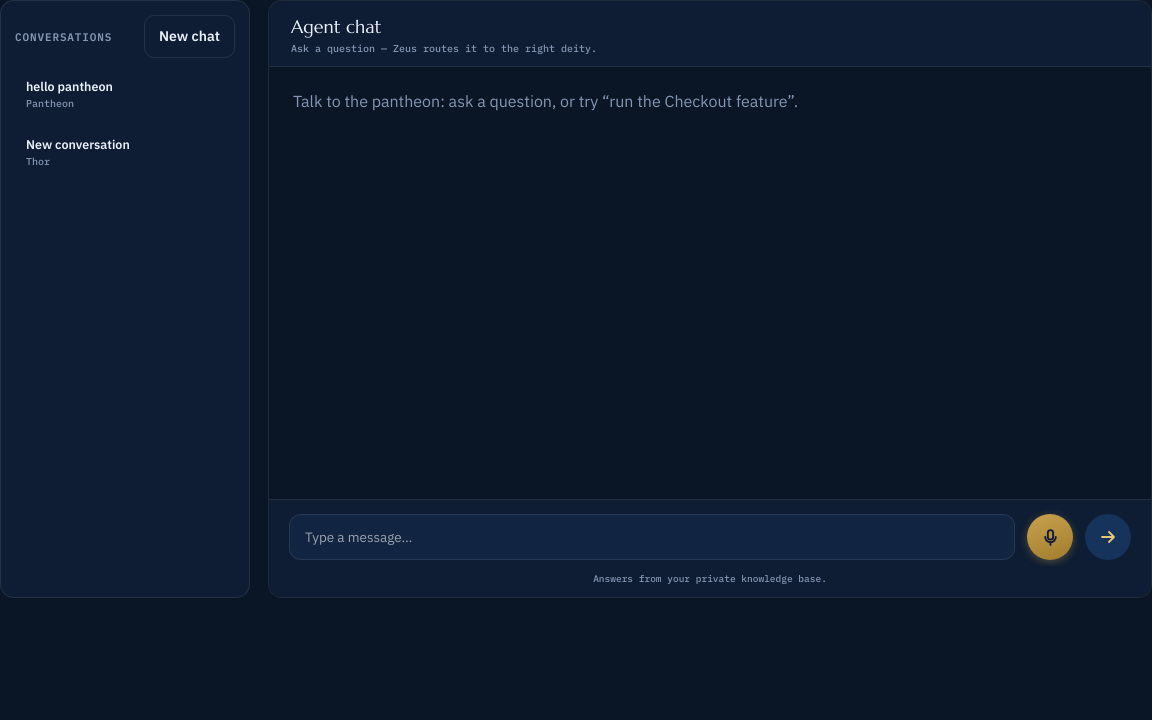
Test: ChatScreen (slice 11 re-skin) › falls back to a history resync when the EventSource errors
The width and height of the screenshot is (1152, 720).
Expected: the text "hello pantheon" is shown, [26,78,113,94]
Type "doomed stream" into the field labelled "message" at (652, 537), box [289,514,1015,560]
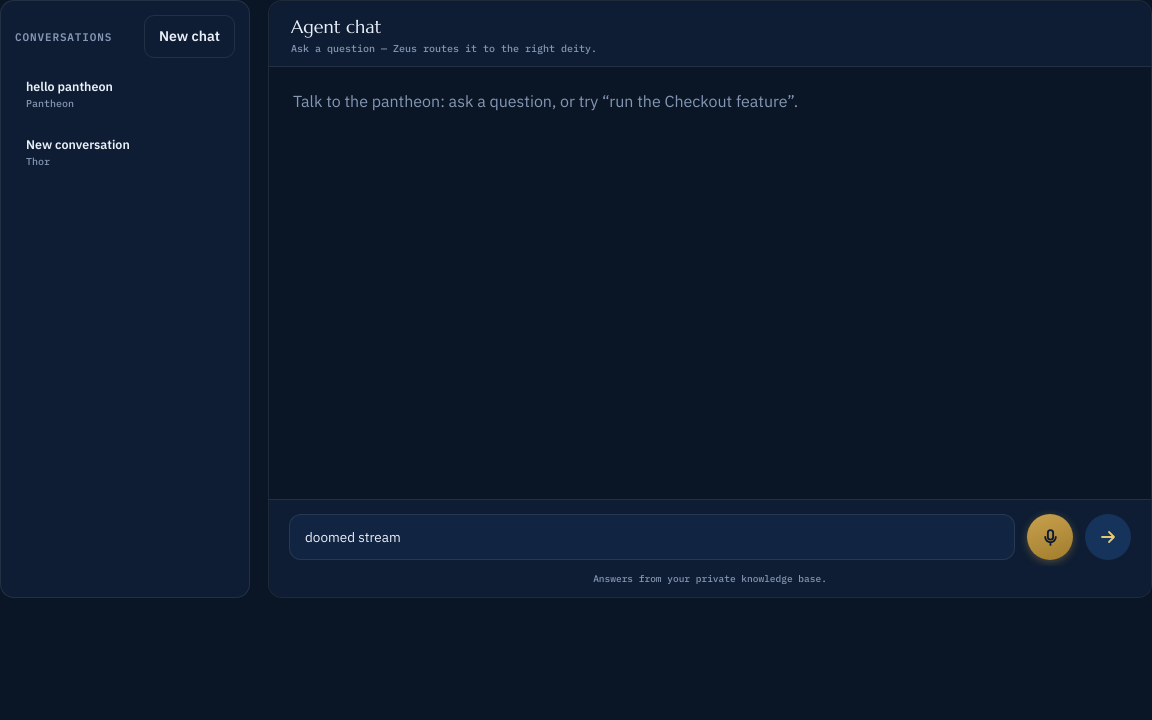
Click the button named "Send" at (1108, 537), box [1085,514,1131,560]
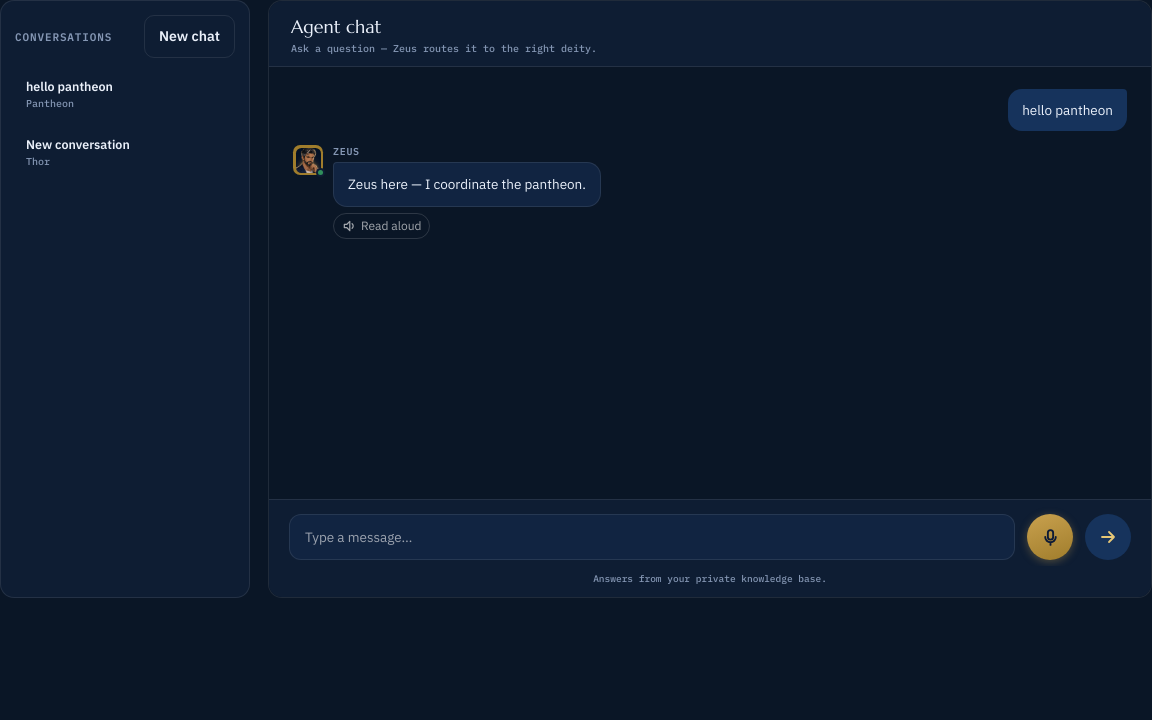
Expected: the field labelled "message" is enabled, [289,514,1015,560]
Result: the text "Zeus here — I coordinate the pantheon." is shown at [333,162,601,207]
